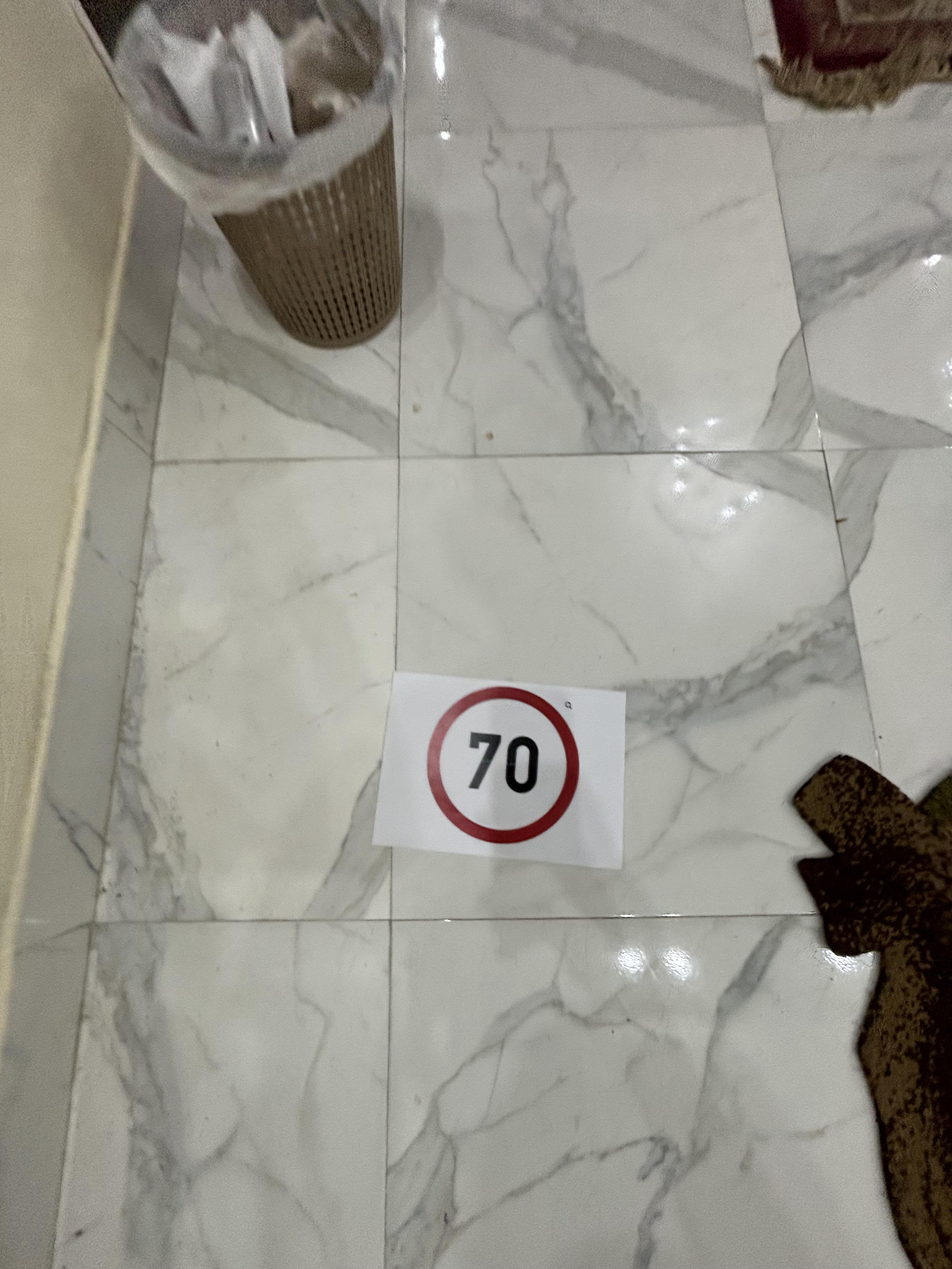70-Speed: (422, 684, 586, 848)
